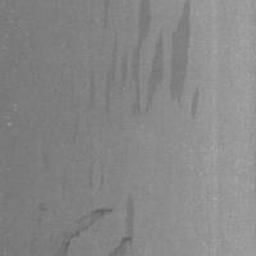Water spot: (104, 0, 164, 119), (52, 206, 115, 256), (169, 0, 192, 108), (109, 197, 136, 256), (72, 110, 81, 143), (88, 156, 96, 191), (90, 69, 97, 106), (102, 0, 110, 26), (191, 90, 198, 118), (37, 201, 49, 212)
